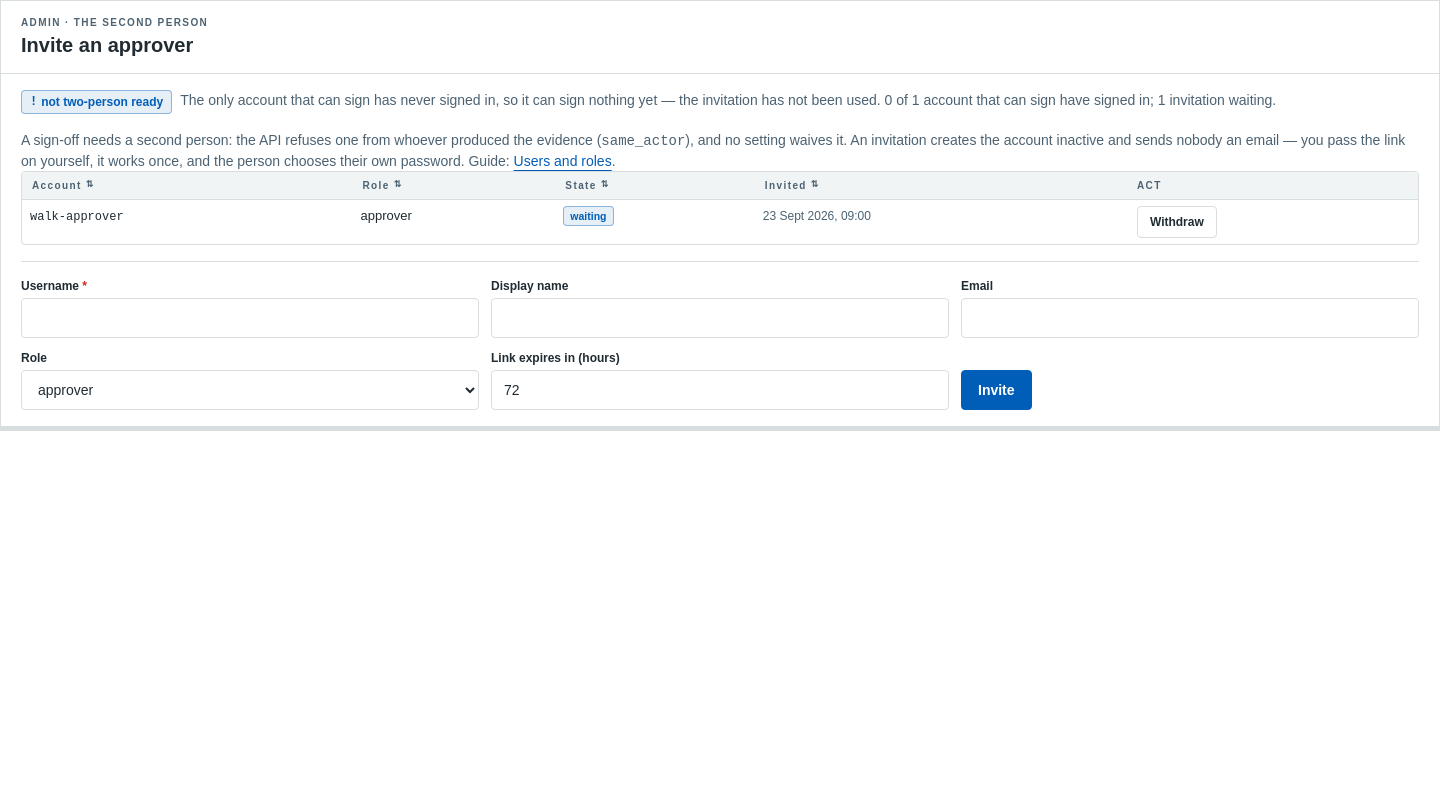
Test: InviteApproverCard › inviting posts the form and shows the one-time link once, with the warning
Type "second-person" into the field labelled "Username *" at (250, 318), box [21,298,479,338]
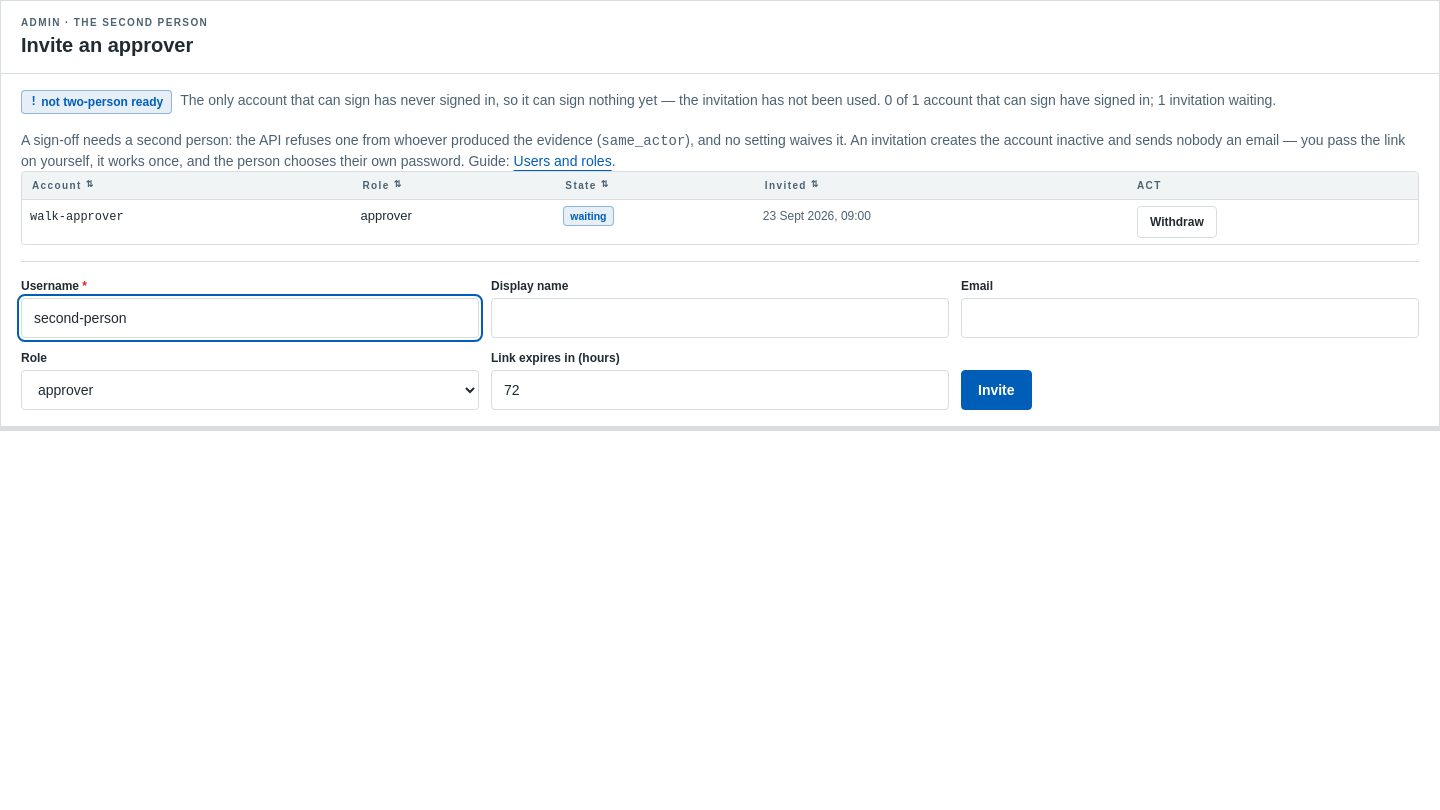
Type "Second Person" into the field labelled "Display name" at (720, 318), box [491,298,949,338]
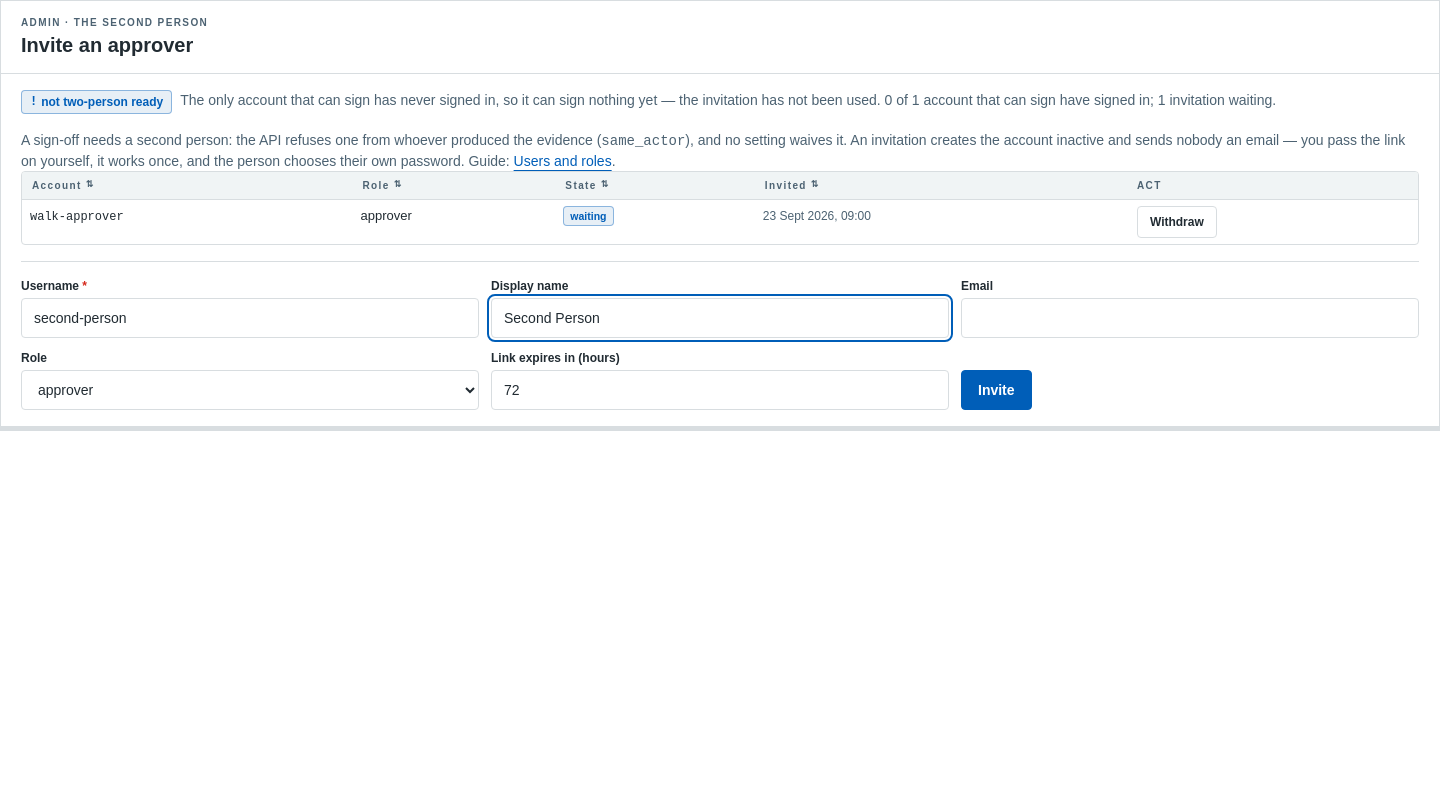
Click the button "Invite" at (996, 390), box [961,370,1032,410]
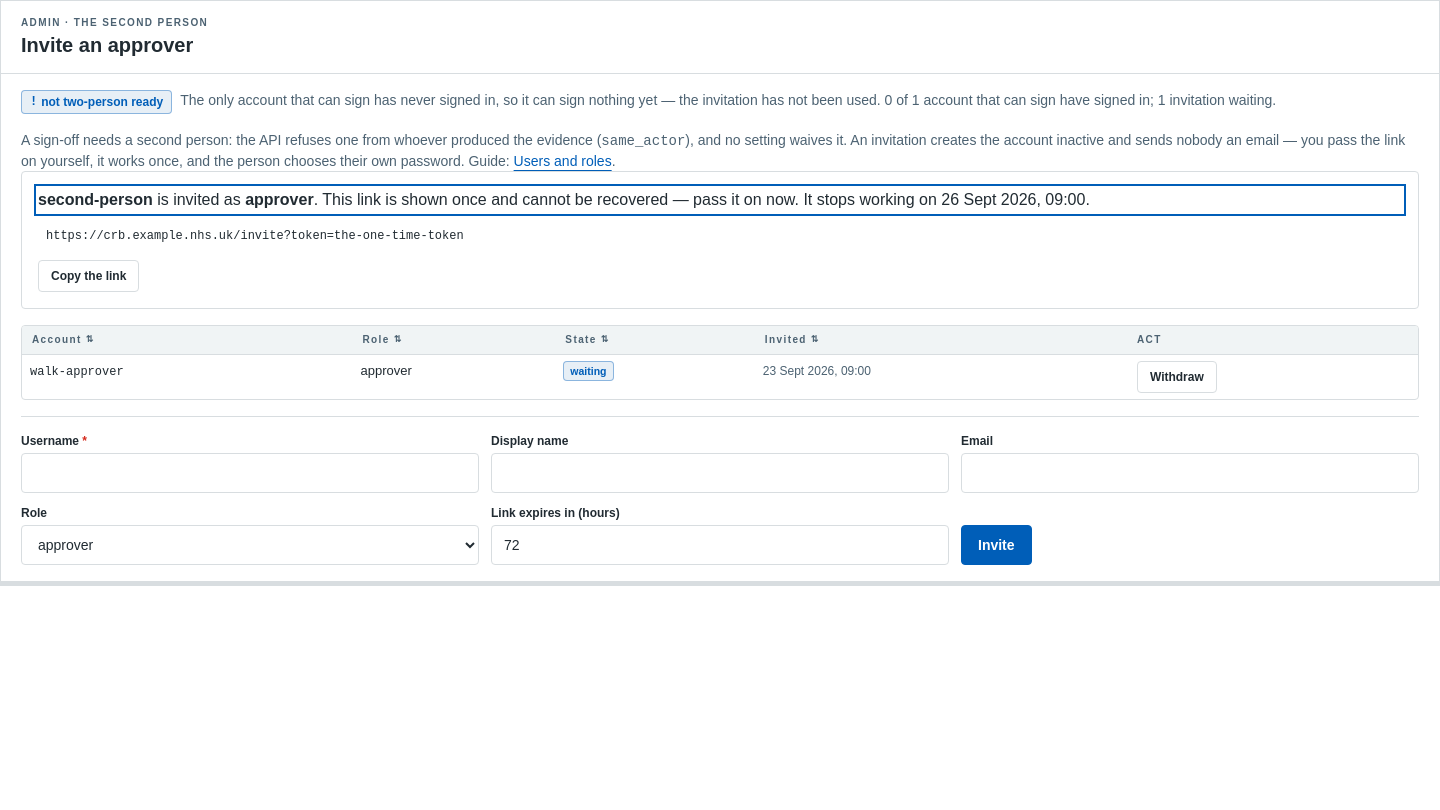
Expected: the text with test id "invitation-url" reads "https://crb.example.nhs.uk/invite?token=the-one-time-token", [46,229,464,243]
Expected: the element with test id "invitation-link" shows "This link is shown once and cannot be recovered", [314,190,941,208]
Expected: the button "Copy the link" is shown, [38,260,139,292]
